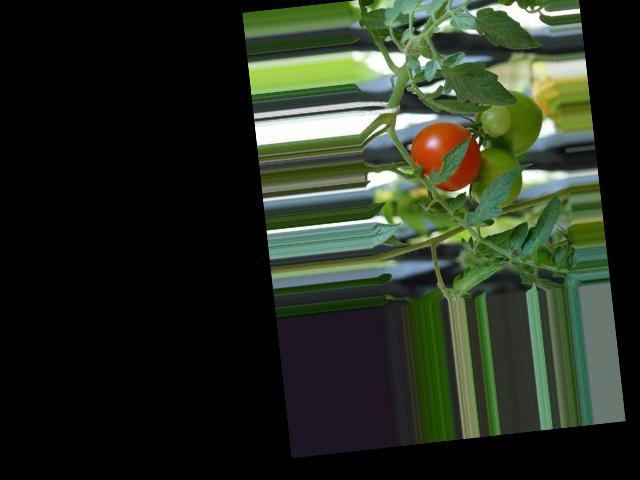tomato: (407, 117, 483, 195)
